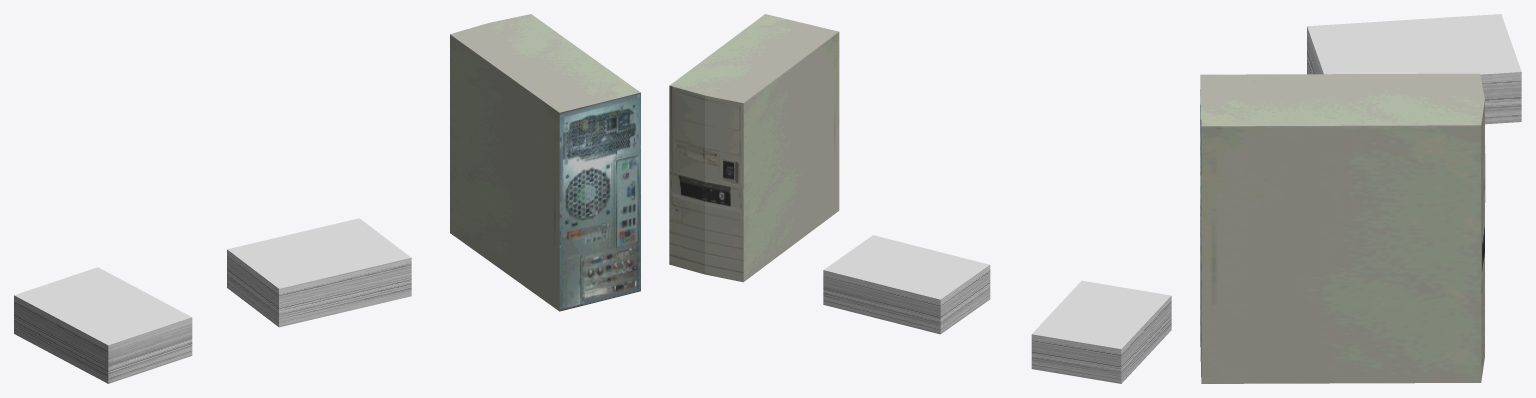
File: paperstacks.fbx
3 renders of one model, left to right at view 1: azimuth 30°, elevation 25°; view 2: azimuth 150°, elevation 25°; view 3: azimuth 270°, elevation 25°, orthographic. The views are drawn at different scales.
Parts seen in each view (by area): view 1: computer_tower1, paper_stack_large2, paper_stack_large1; view 2: computer_tower1, paper_stack_large2, paper_stack_large1; view 3: computer_tower1, paper_stack_large1.
Boxes of the visible parts, bbox=[...] form: computer_tower1: bbox=[450, 14, 640, 311]; paper_stack_large2: bbox=[227, 218, 411, 327]; paper_stack_large1: bbox=[14, 267, 192, 383]; computer_tower1: bbox=[669, 14, 839, 282]; paper_stack_large2: bbox=[823, 235, 990, 334]; paper_stack_large1: bbox=[1031, 280, 1171, 383]; computer_tower1: bbox=[1200, 73, 1484, 383]; paper_stack_large1: bbox=[1307, 14, 1521, 124].
Size of the model in its own units: 164 by 61.68 by 68.92.
